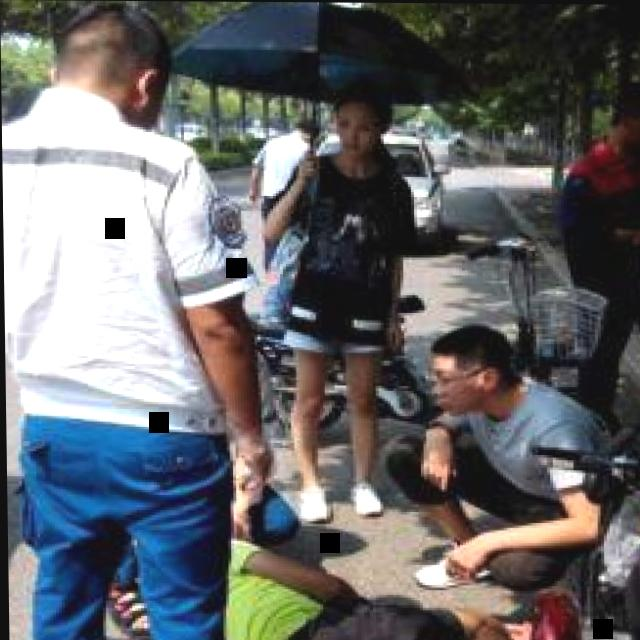Fall-Detected: (97, 497, 503, 640)
